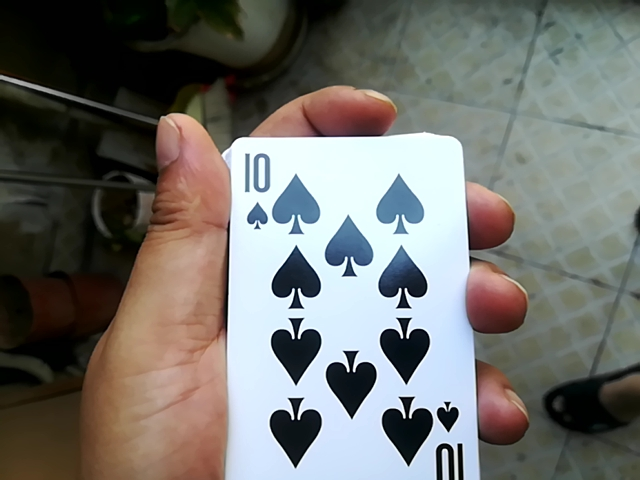ht 10: (227, 132, 485, 480)
